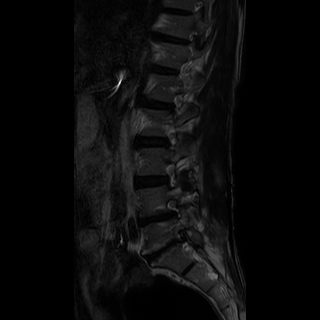RFS0: (156, 159, 181, 194)
RFS1: (156, 193, 187, 222)
